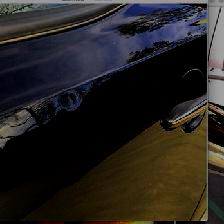door_dent: (6, 71, 118, 147)
